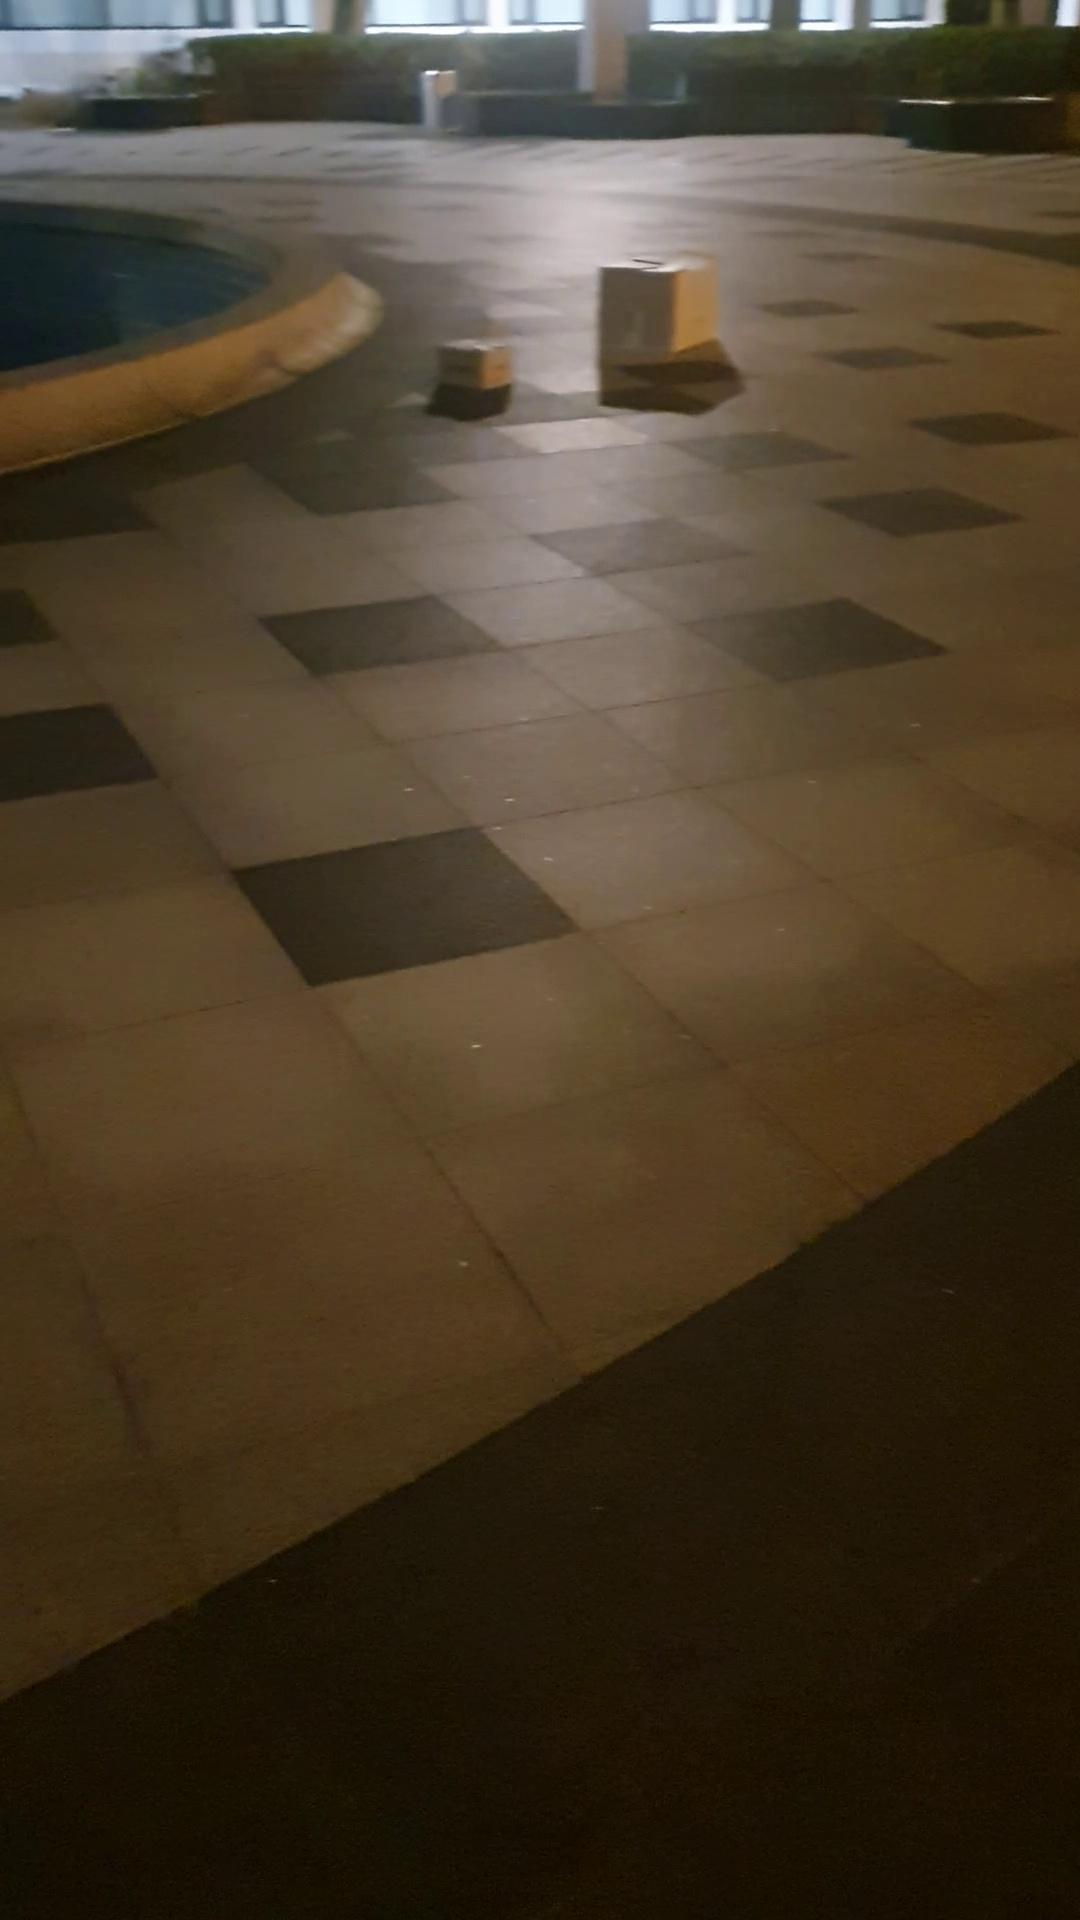Box: (583, 258, 717, 373), (418, 338, 525, 400)
